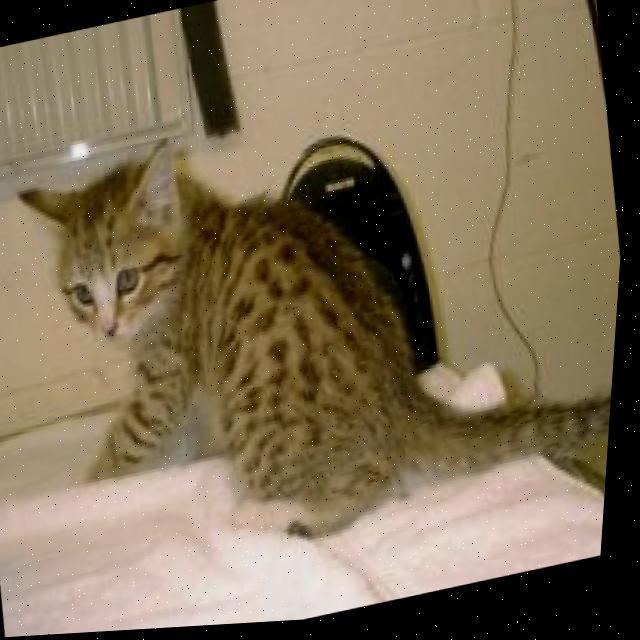Bengal: (0, 40, 636, 611)
